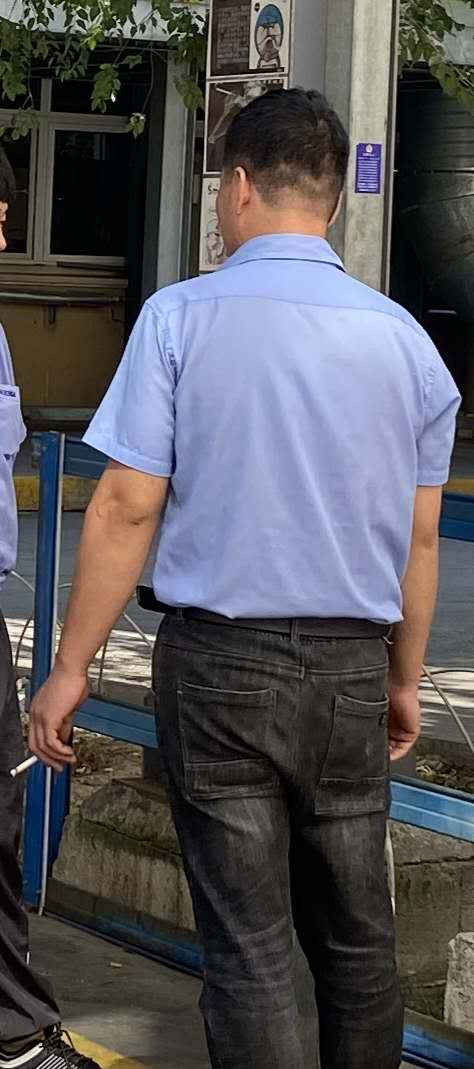smoke: (7, 756, 38, 779)
